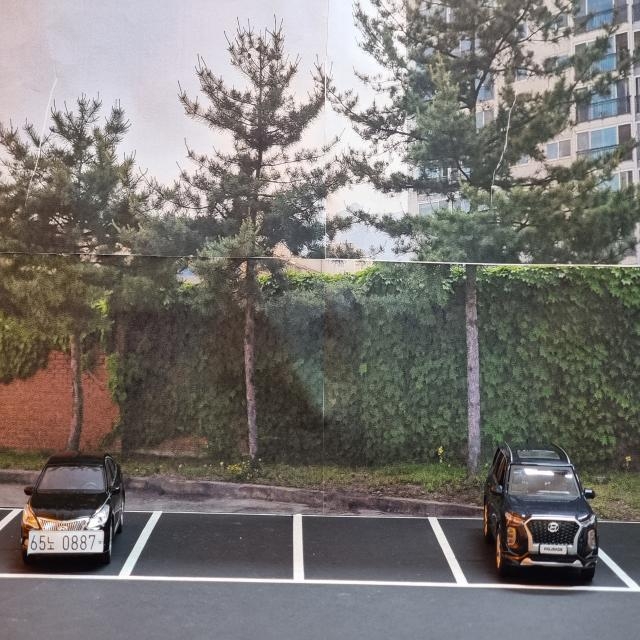empty: (280, 510, 464, 597), (124, 503, 302, 588)
occupied: (460, 435, 628, 590), (22, 447, 124, 577)
